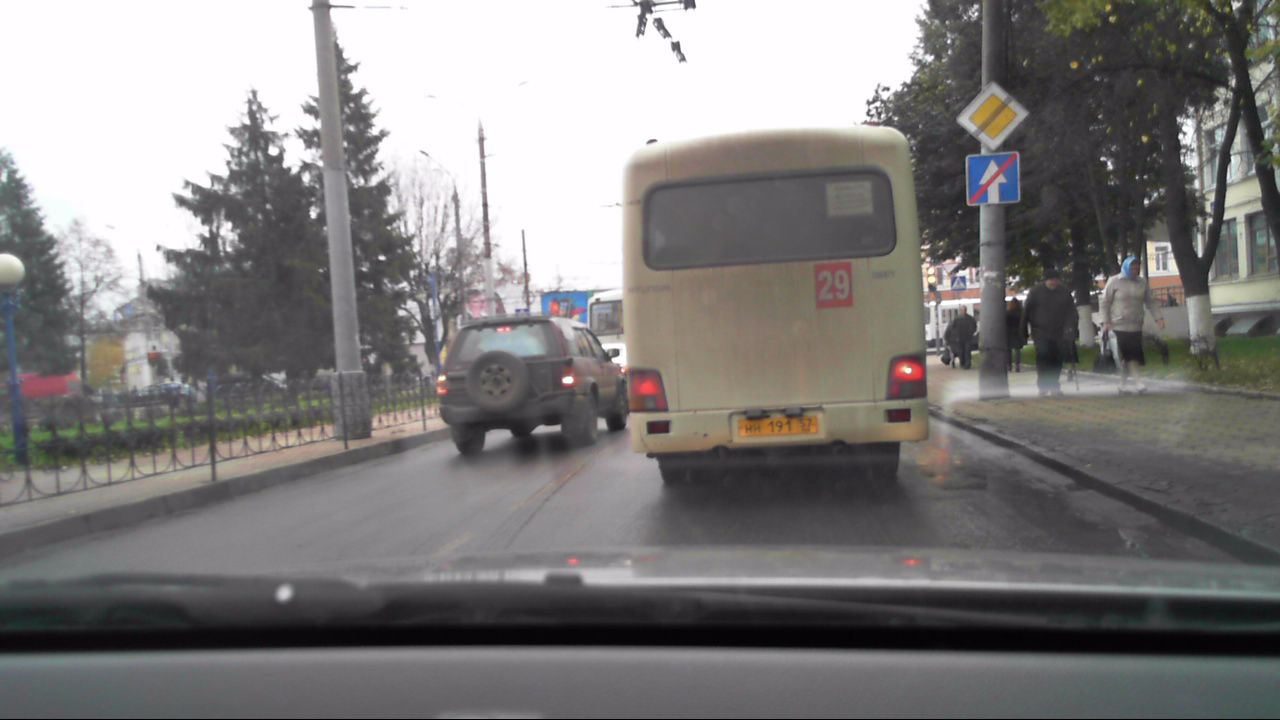main road: (956, 80, 1029, 149)
